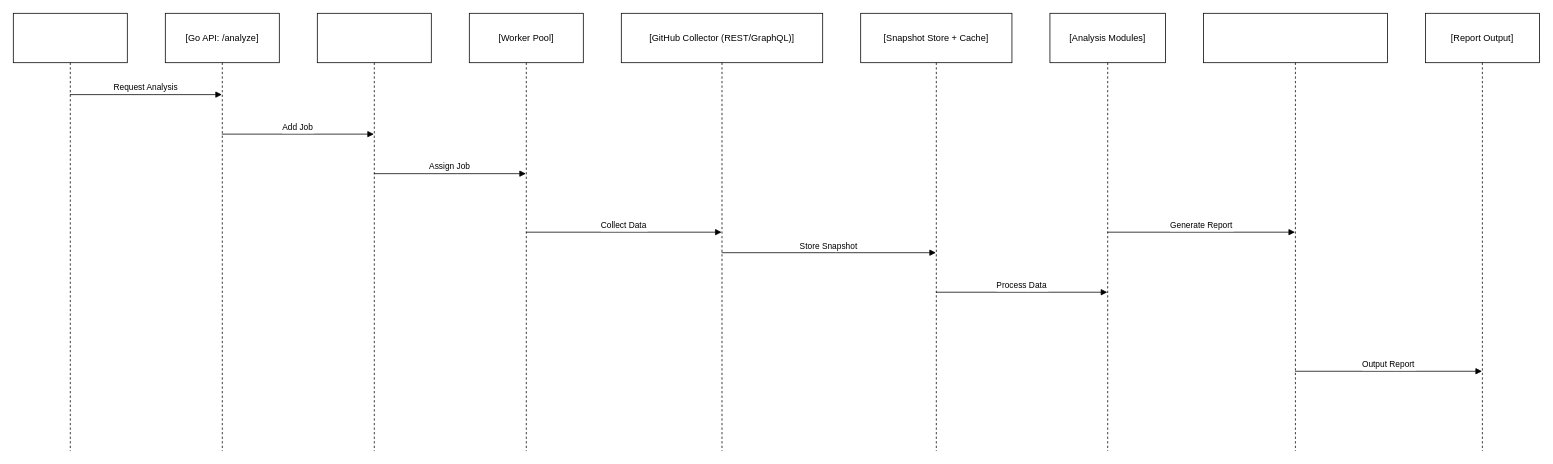
This 1553x464 diagram has some shape labels left out. The box of each missing label's shape, as (x1, y1, x2, y2) in pixels:
[Job Queue]: (317, 13, 431, 451)
[Report Generator (HTML/PDF)]: (1203, 13, 1387, 451)
User/Analyst: (13, 13, 127, 451)
